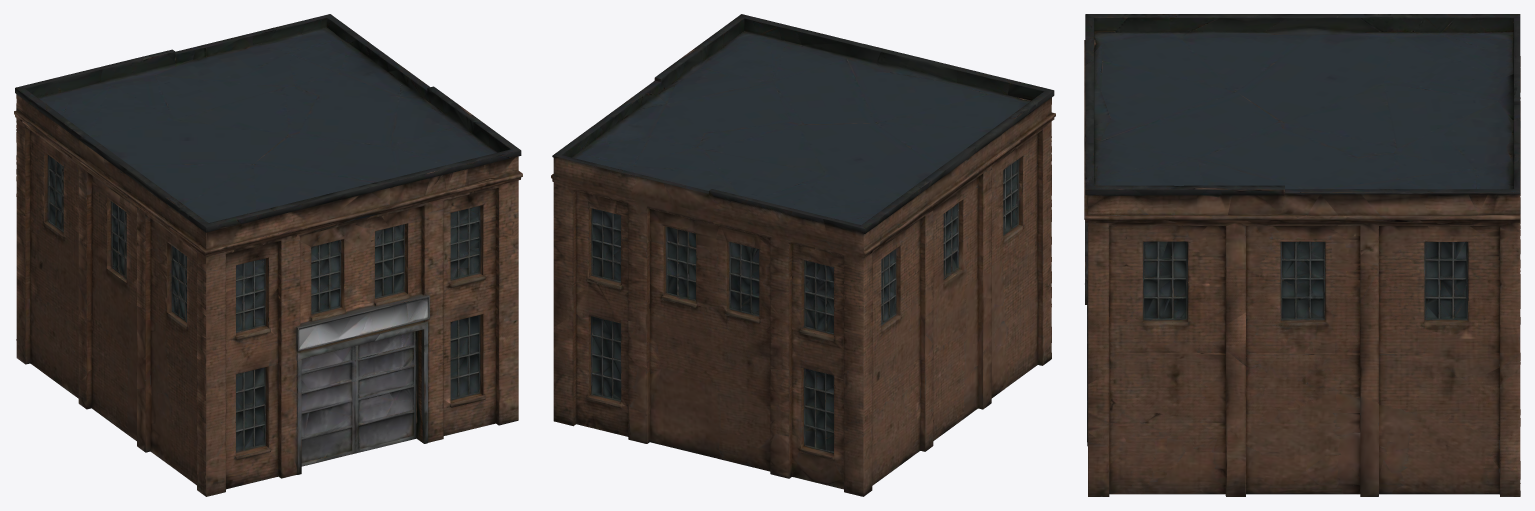
The model's file is shed-02-brick-industrial.glb.
The picture shows the model from 3 angles, left to right: view 1: azimuth 30°, elevation 25°; view 2: azimuth 150°, elevation 25°; view 3: azimuth 270°, elevation 25°; orthographic projection. The views are drawn at different scales.
Visible parts, largest first — view 1: geometry_0; view 2: geometry_0; view 3: geometry_0.
Boxes of the visible parts, x1,y1,x2,y2 form: geometry_0: (14,14,522,496); geometry_0: (551,14,1055,496); geometry_0: (1084,14,1520,496).
Size of the model in its own units: 1.82 by 1.48 by 1.9.
Materials: 1 (1 with a texture image).
